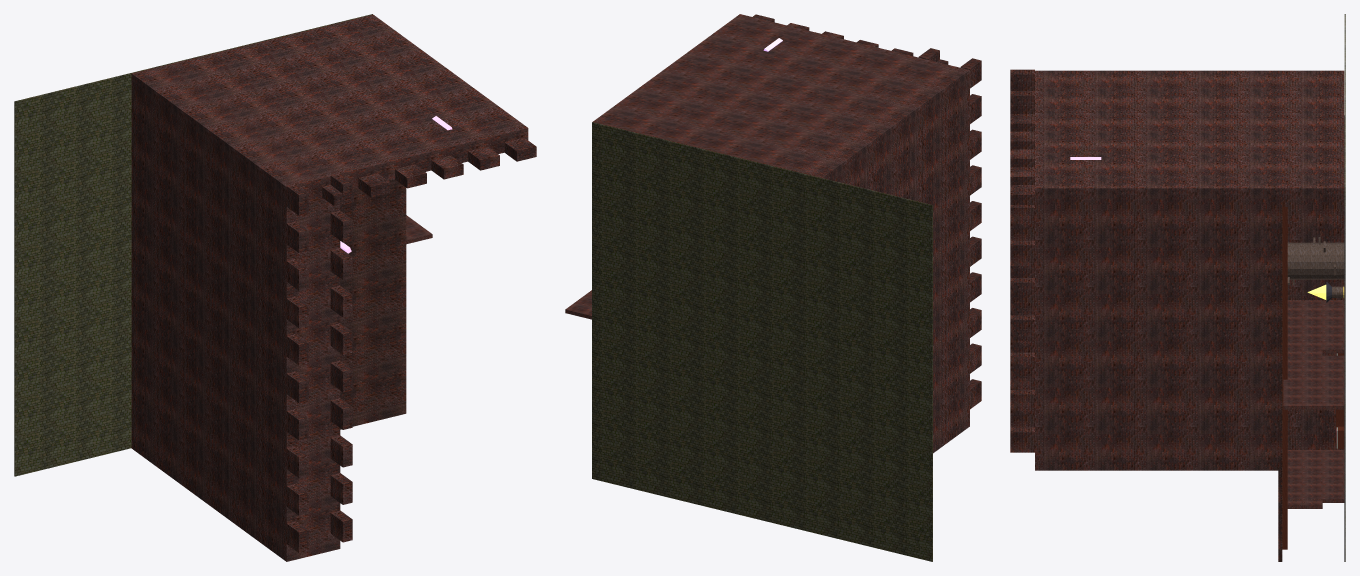
Rendered from keep_t0_4.gltf.
The picture shows the model from 3 angles, left to right: view 1: azimuth 30°, elevation 25°; view 2: azimuth 150°, elevation 25°; view 3: azimuth 270°, elevation 25°; orthographic projection. The views are drawn at different scales.
Visible parts, largest first — view 1: keep_t0_4_wallg, keep_t0_4_ground, keep_t0_4_roof; view 2: keep_t0_4_ground, keep_t0_4_wallg; view 3: keep_t0_4_wallg, keep_t0_4_wall, keep_t0_4_stone, keep_t0_4_wood, keep_t0_4_roof, keep_t0_4_floor, keep_t0_4_ground.
Part boxes in pixels (box(x1,y1,x2,y2)): keep_t0_4_wallg: box(131, 14, 536, 561); keep_t0_4_ground: box(14, 14, 372, 476); keep_t0_4_roof: box(340, 179, 406, 429); keep_t0_4_ground: box(592, 122, 932, 561); keep_t0_4_wallg: box(593, 14, 981, 453); keep_t0_4_wallg: box(1010, 69, 1344, 470); keep_t0_4_wall: box(1283, 300, 1344, 508); keep_t0_4_stone: box(1287, 237, 1344, 297); keep_t0_4_wood: box(1282, 207, 1344, 549); keep_t0_4_roof: box(1278, 207, 1282, 561); keep_t0_4_floor: box(1344, 115, 1345, 561); keep_t0_4_ground: box(1344, 14, 1345, 561).
Bounding box in the file's own units: 43.2 × 40.25 × 32.54.
Materials: 14 (7 with a texture image).
